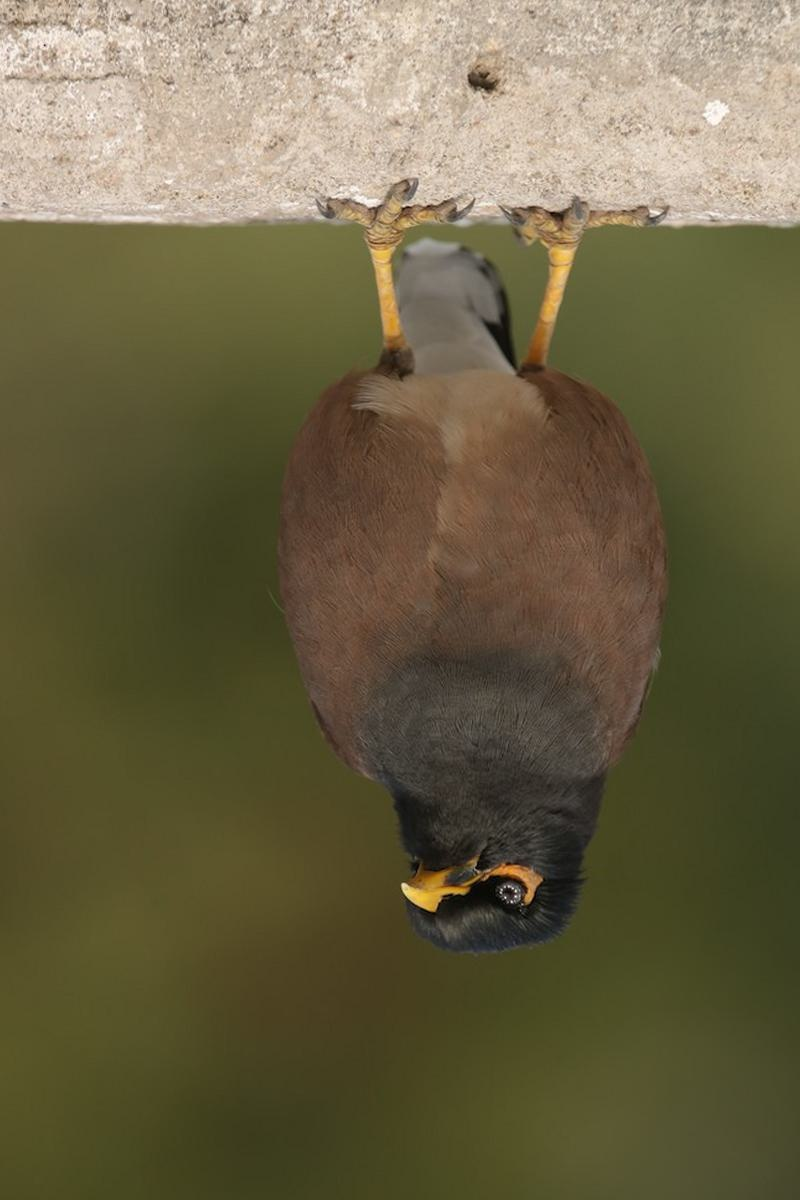myna: (226, 178, 678, 995)
